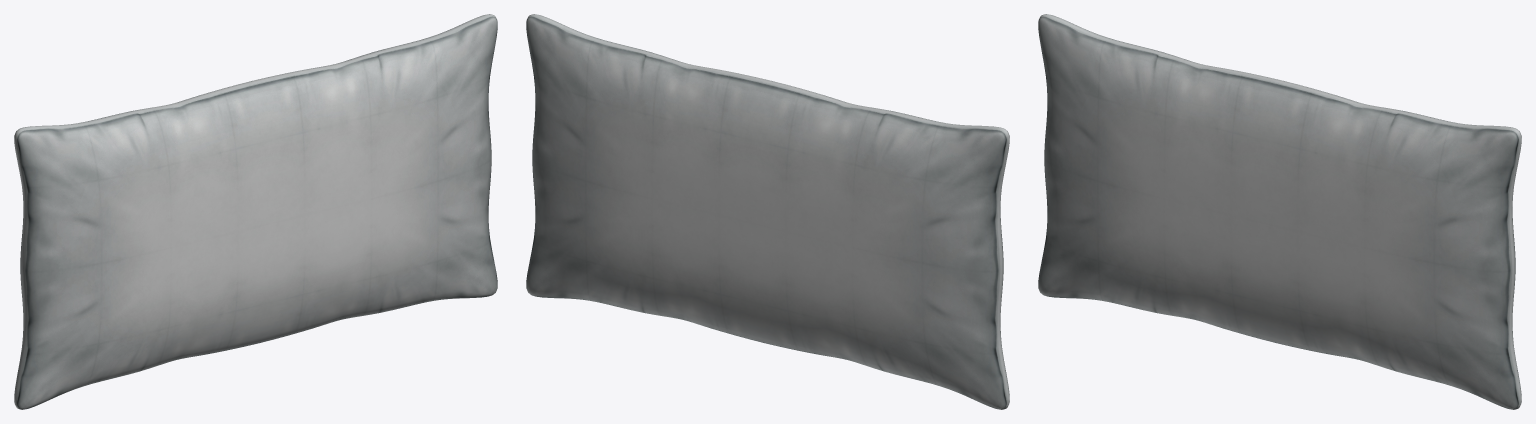
File: 10217_Bed_Pillow_v1_Iterations-2.obj
3 views of the same model, side by side, from view 1: azimuth 30°, elevation 25°; view 2: azimuth 150°, elevation 25°; view 3: azimuth 330°, elevation 25° (orthographic).
Parts seen in each view (by area): view 1: 10217_Bed_Pillow_v1; view 2: 10217_Bed_Pillow_v1; view 3: 10217_Bed_Pillow_v1.
Part boxes in pixels (<box>): 10217_Bed_Pillow_v1: <box>14,14,497,409</box>; 10217_Bed_Pillow_v1: <box>526,14,1009,409</box>; 10217_Bed_Pillow_v1: <box>1038,14,1521,409</box>.
Size of the model in its own units: 89.31 by 49.75 by 10.
1 material, 1 textured.
